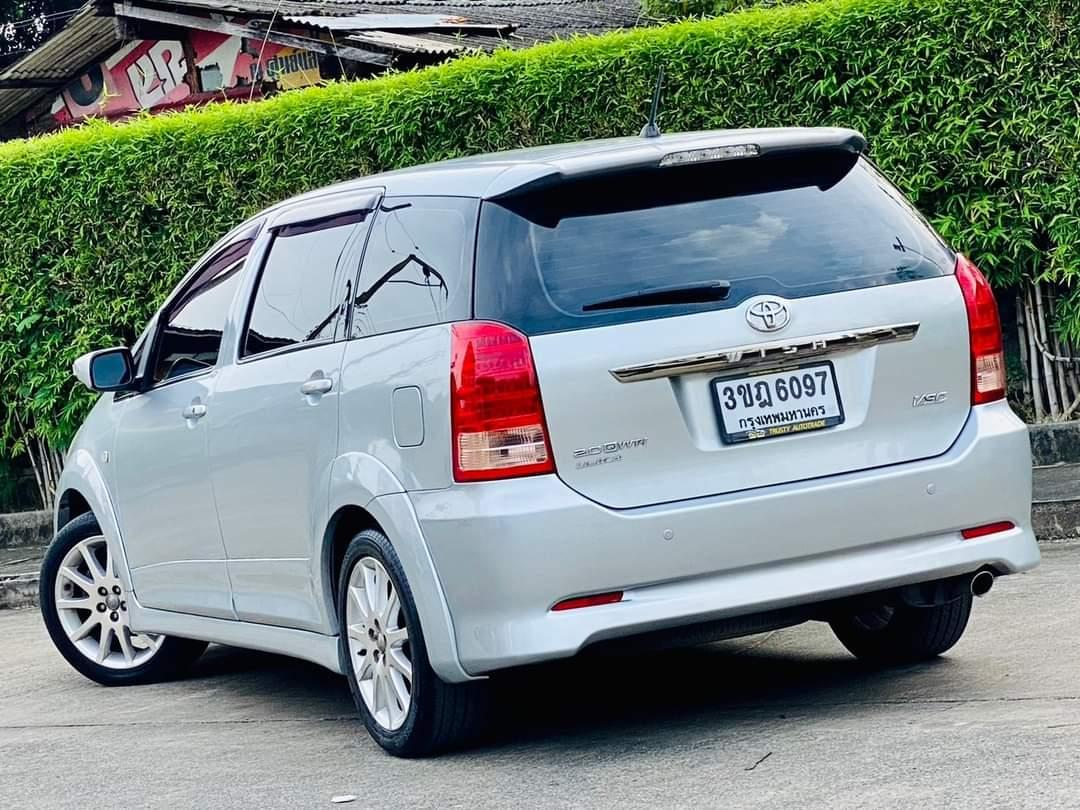license-plate: (705, 358, 848, 450)
